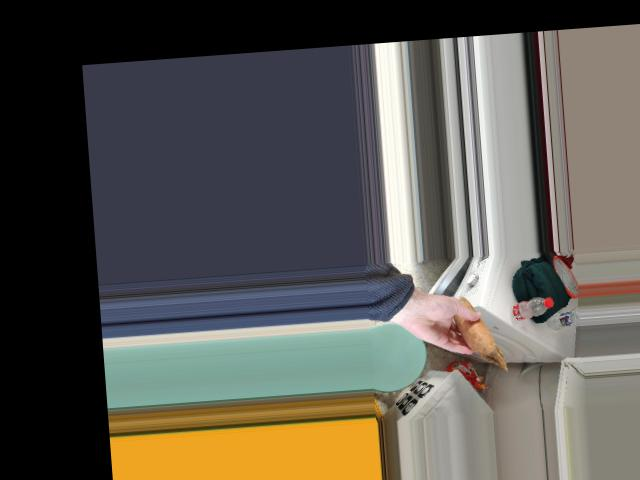sweet_potato: (449, 303, 494, 352)
